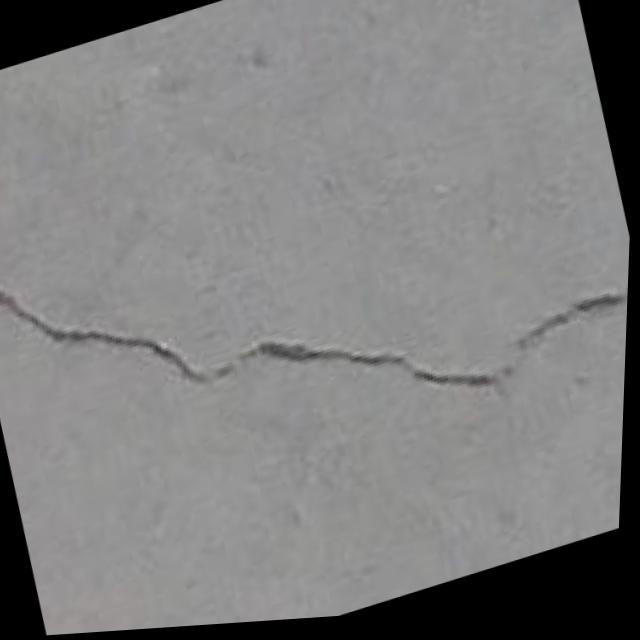Crack: (0, 73, 637, 552)
